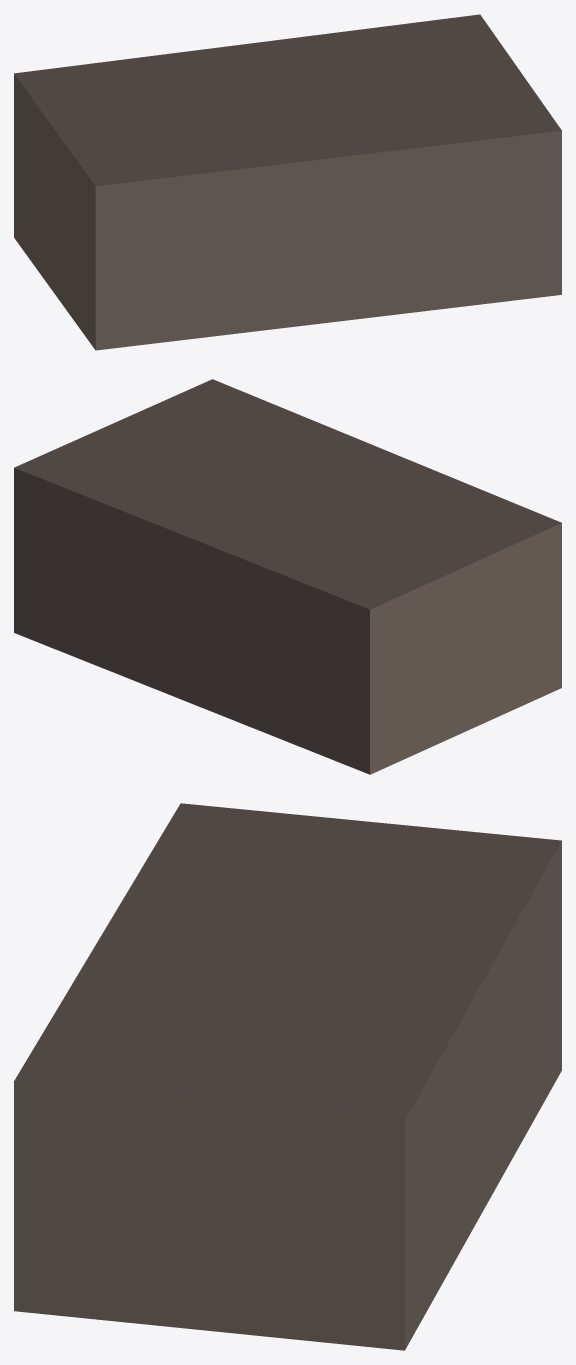
3 views of the same model, one above another, from view 1: azimuth 30°, elevation 25°; view 2: azimuth 150°, elevation 25°; view 3: azimuth 270°, elevation 25° (orthographic). The views are drawn at different scales.
Parts seen in each view (by area): view 1: HP-w505636146; view 2: HP-w505636146; view 3: HP-w505636146.
Boxes of the visible parts, <box> form: HP-w505636146: <box>14,14,561,350</box>; HP-w505636146: <box>14,379,561,774</box>; HP-w505636146: <box>14,803,561,1350</box>.
Size of the model in its own units: 27.04 by 9.13 by 19.72.
